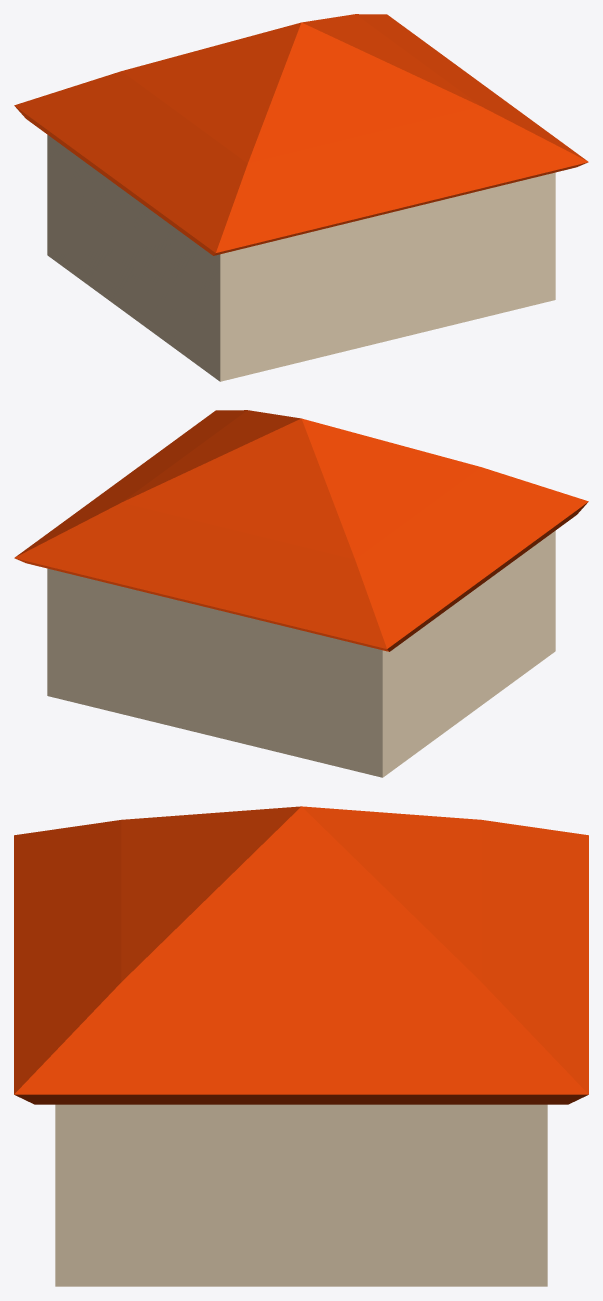
Rendered from EVblend.fbx.
3 views of the same model, one above another, from view 1: azimuth 30°, elevation 25°; view 2: azimuth 150°, elevation 25°; view 3: azimuth 270°, elevation 25° (orthographic). The views are drawn at different scales.
Visible parts, largest first — view 1: Cone; view 2: Cone; view 3: Cone.
Part boxes in pixels (box(x1,y1,x2,y2)): Cone: box(14, 14, 588, 381); Cone: box(14, 410, 588, 777); Cone: box(14, 806, 588, 1286).
Bounding box in the file's own units: 337 × 220 × 316.
